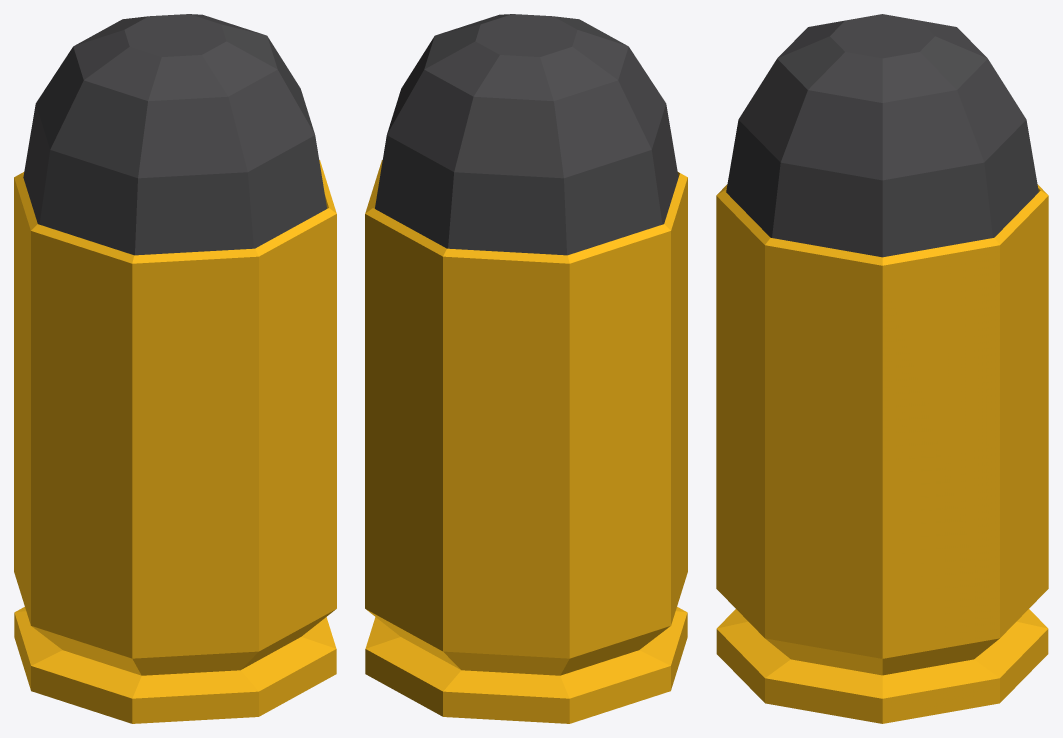
File: Bullet.obj
3 views of the same model, side by side, from view 1: azimuth 30°, elevation 25°; view 2: azimuth 150°, elevation 25°; view 3: azimuth 270°, elevation 25° (orthographic).
Visible parts, largest first — view 1: Bullet_Cylinder.001; view 2: Bullet_Cylinder.001; view 3: Bullet_Cylinder.001.
Part boxes in pixels (x1,y1,x2,y2): Bullet_Cylinder.001: (14, 14, 336, 723); Bullet_Cylinder.001: (365, 14, 687, 723); Bullet_Cylinder.001: (716, 14, 1048, 723).
Bounding box in the file's own units: 0.0042 × 0.00861 × 0.0042.
1 material, 1 textured.
